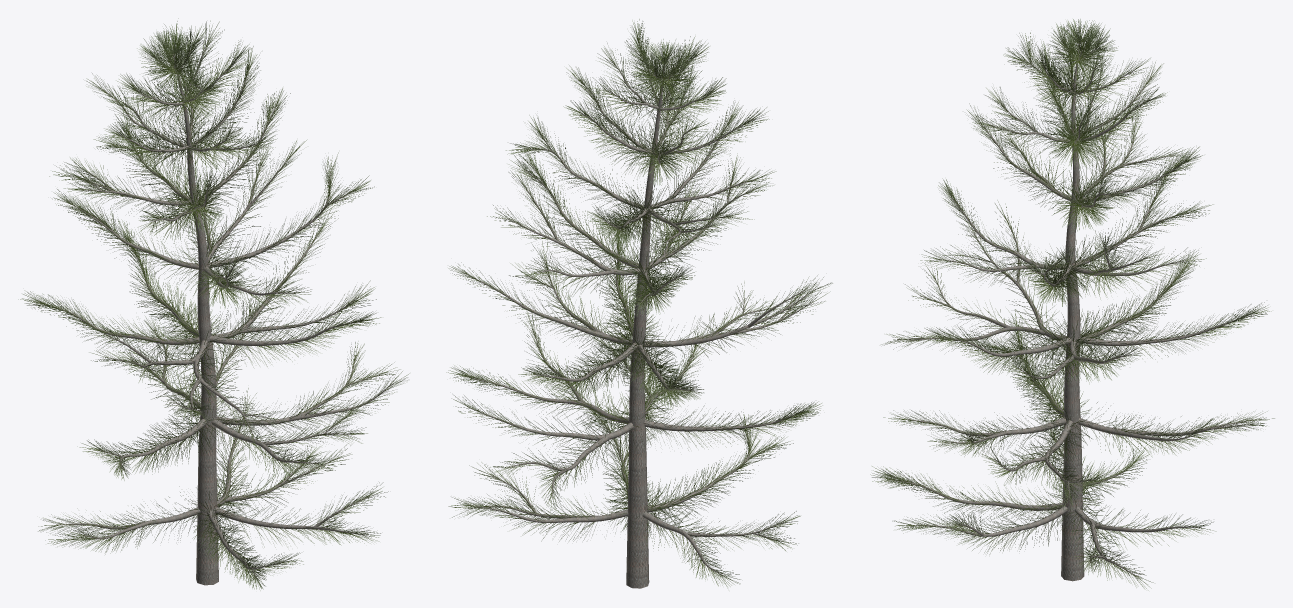
Rendered from tree3.fbx.
3 views of the same model, side by side, from view 1: azimuth 30°, elevation 25°; view 2: azimuth 150°, elevation 25°; view 3: azimuth 270°, elevation 25° (orthographic). The views are drawn at different scales.
Visible parts, largest first — view 1: leaves, tree; view 2: leaves, tree; view 3: leaves, tree.
Boxes of the visible parts, box(x1,y1,x2,y2) form: leaves: box(18, 18, 409, 590); tree: box(47, 41, 392, 585); leaves: box(446, 19, 832, 588); tree: box(464, 42, 815, 588); leaves: box(870, 19, 1274, 590); tree: box(891, 44, 1252, 581).
Bounding box in the file's own units: 243 × 361 × 248.
